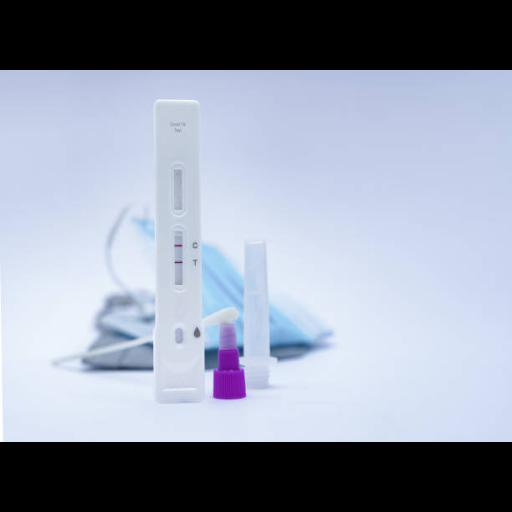Pos: (154, 98, 204, 402)
